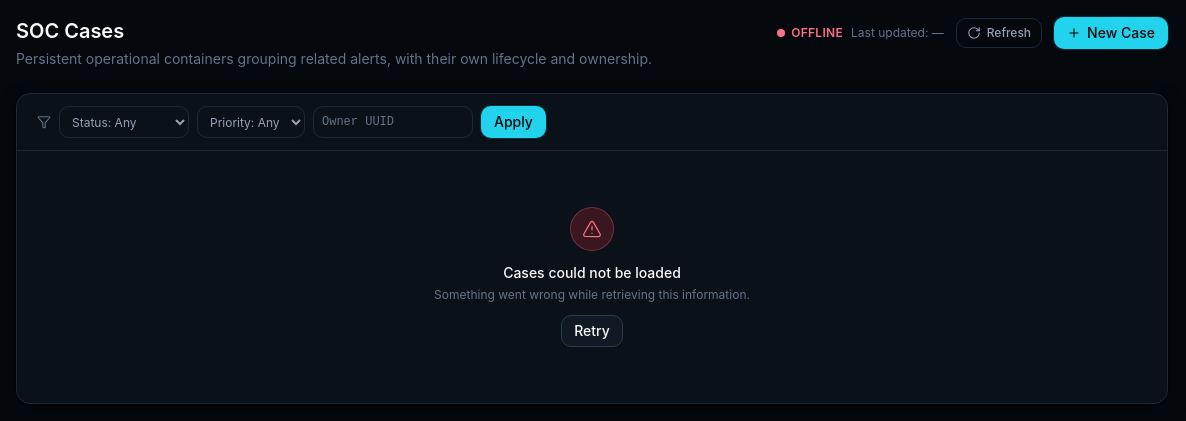
Test: Step 12S: SOC Case Management (real backend data) › shows a safe error state on failure, with retry
Expected: the text "Cases could not be loaded" is shown, x1=503 y1=264 x2=681 y2=281
Click the button "Retry".
click(592, 331)  # box x1=561 y1=315 x2=623 y2=347
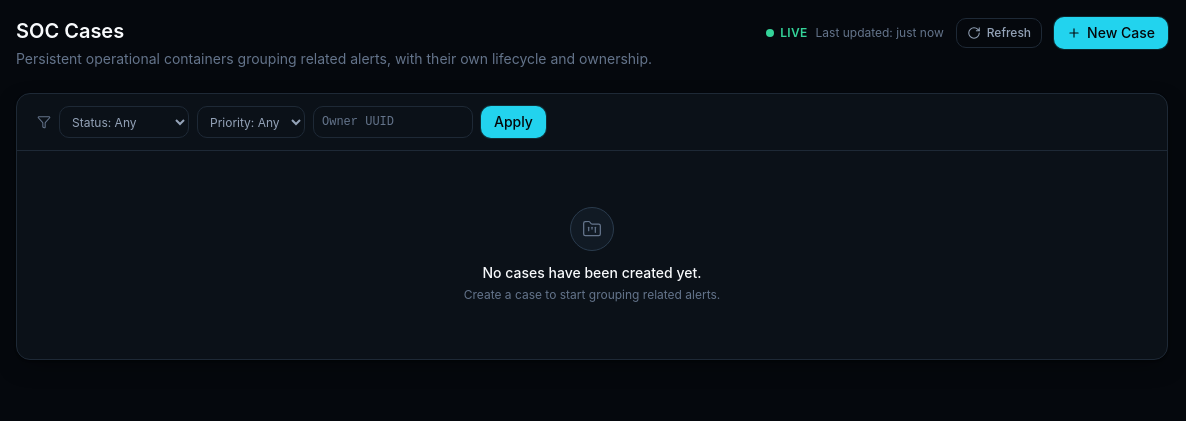
Expected: the text "No cases have been created yet." is shown, x1=464 y1=263 x2=720 y2=283
